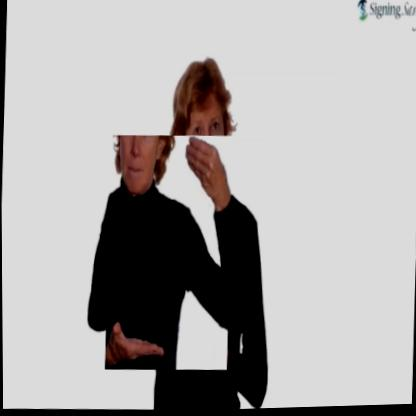Expensive: (103, 133, 235, 374)
